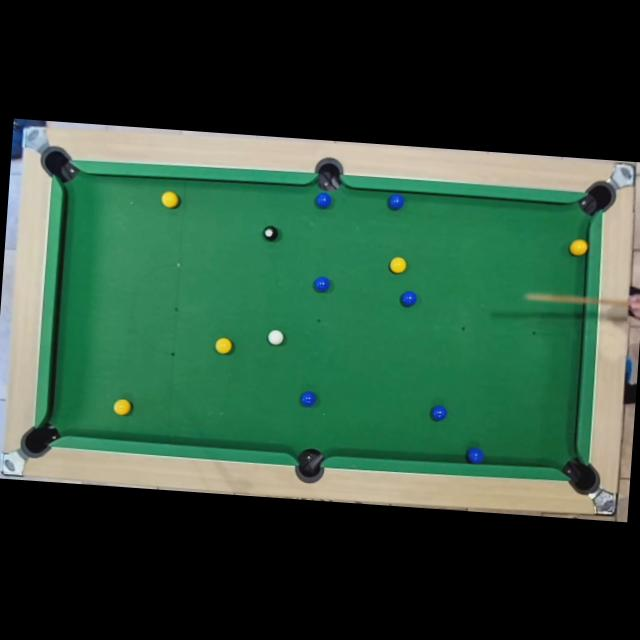Ball: (160, 190, 178, 208), (430, 404, 448, 421), (570, 238, 587, 256), (399, 290, 416, 308), (214, 337, 232, 354), (112, 399, 130, 416), (314, 192, 331, 210), (387, 193, 404, 210), (389, 257, 406, 274), (467, 447, 485, 463), (313, 276, 330, 292), (266, 329, 283, 345), (298, 391, 316, 406), (262, 226, 278, 242)
